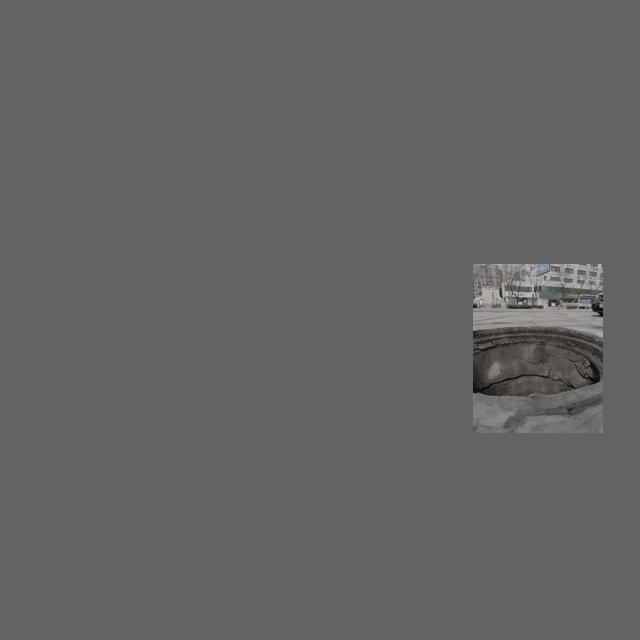lose: (473, 320, 602, 409)
